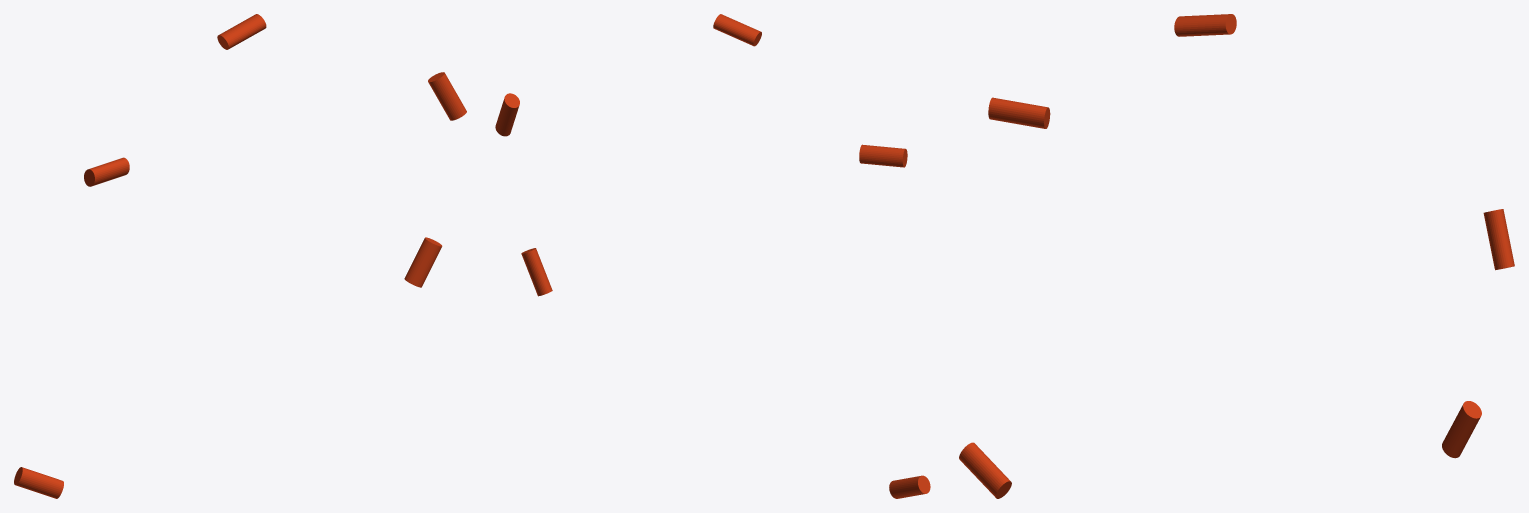
The picture shows the model from 3 angles, left to right: view 1: azimuth 30°, elevation 25°; view 2: azimuth 150°, elevation 25°; view 3: azimuth 330°, elevation 25°; orthographic projection. The views are drawn at different scales.
Size of the model in its own units: 0.6403 by 0.6058 by 0.0907.
